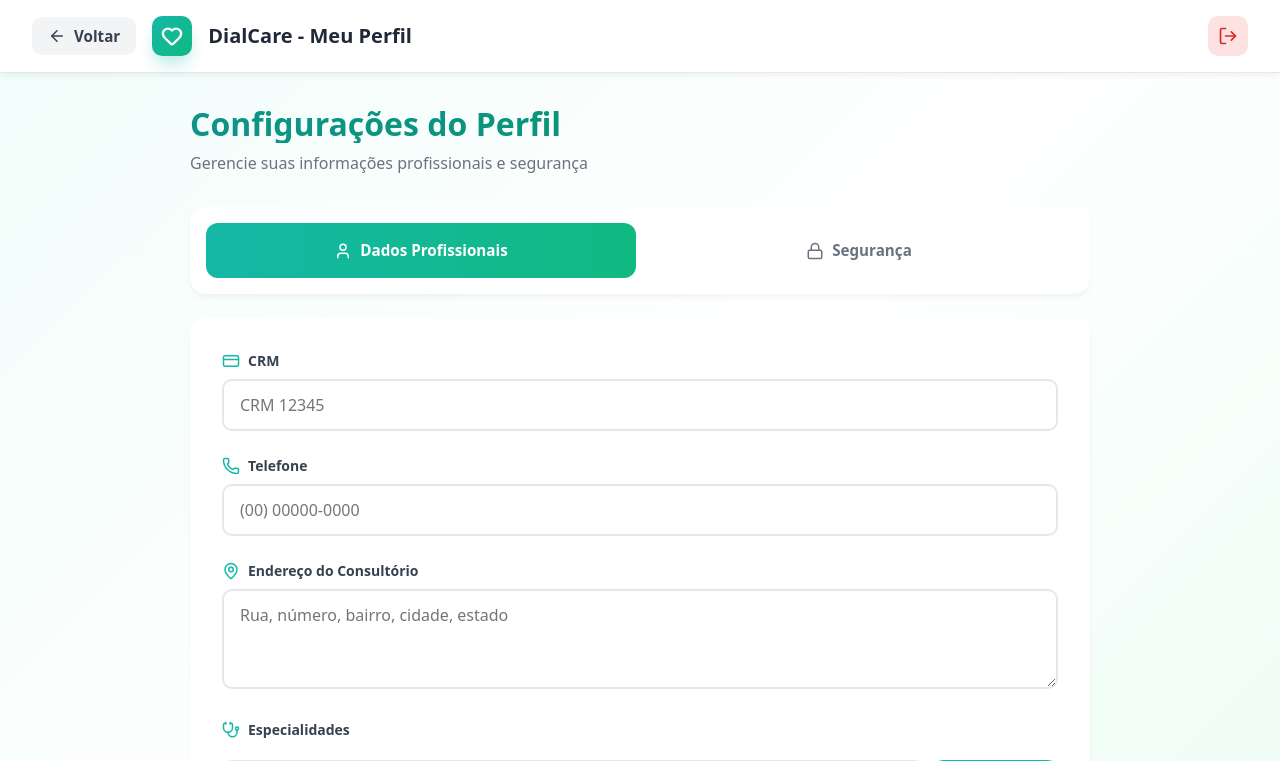
DoctorProfile Component › valida senhas incorretas antes de alterar
Click the button "Segurança".
click(859, 251)  # box [644,223,1074,278]
(page scrolled)
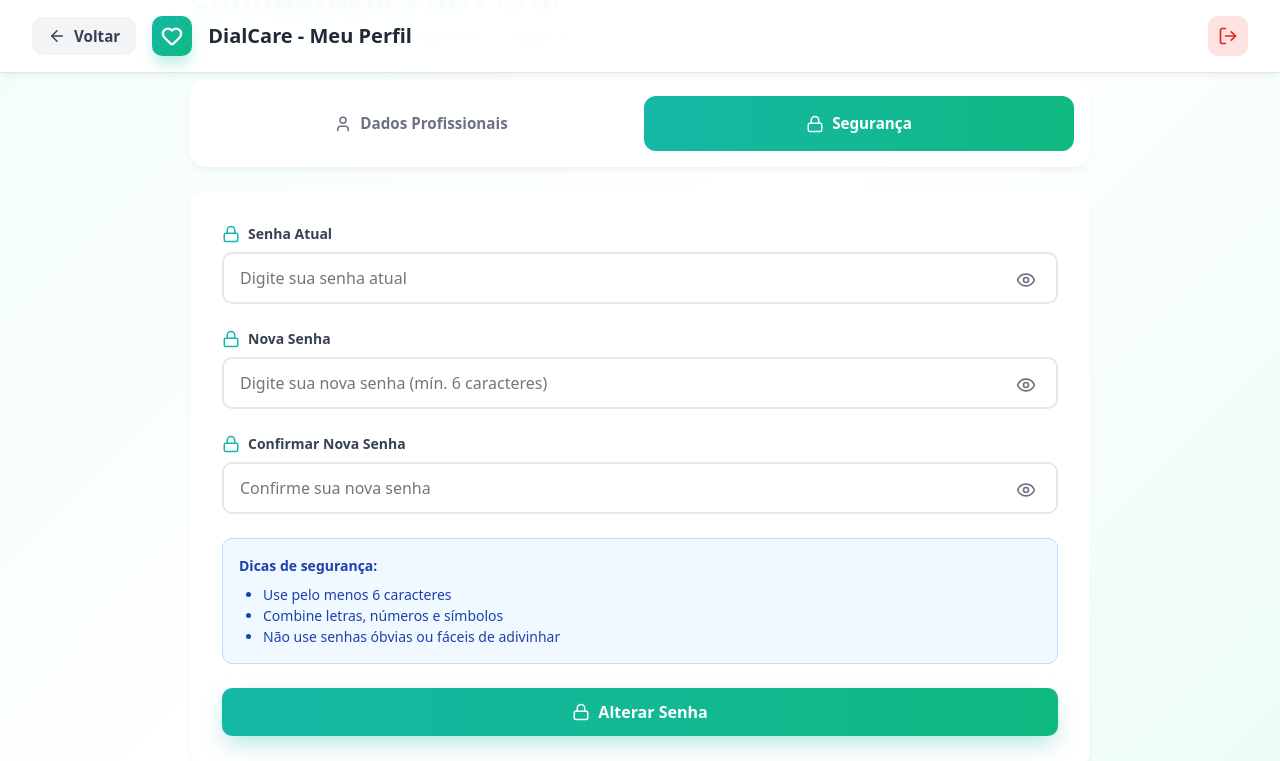
Click the button "Alterar Senha".
click(640, 712)  # box [222,688,1058,736]
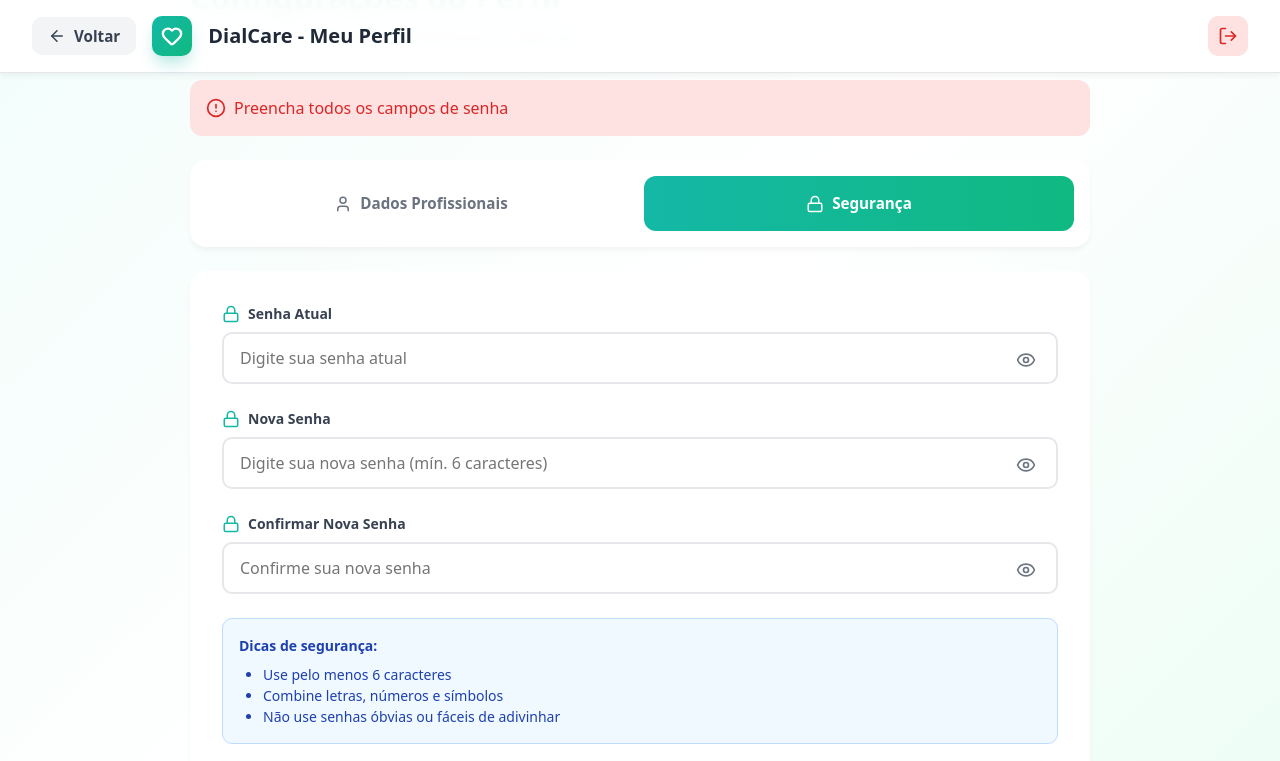
Check: the text "Preencha todos os campos de senha" is shown, box [190,80,1090,136]
